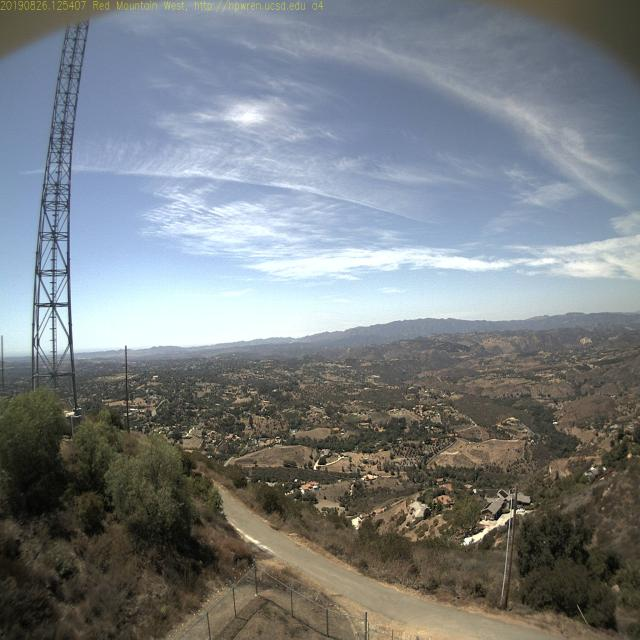smoke: (286, 335, 296, 348)
